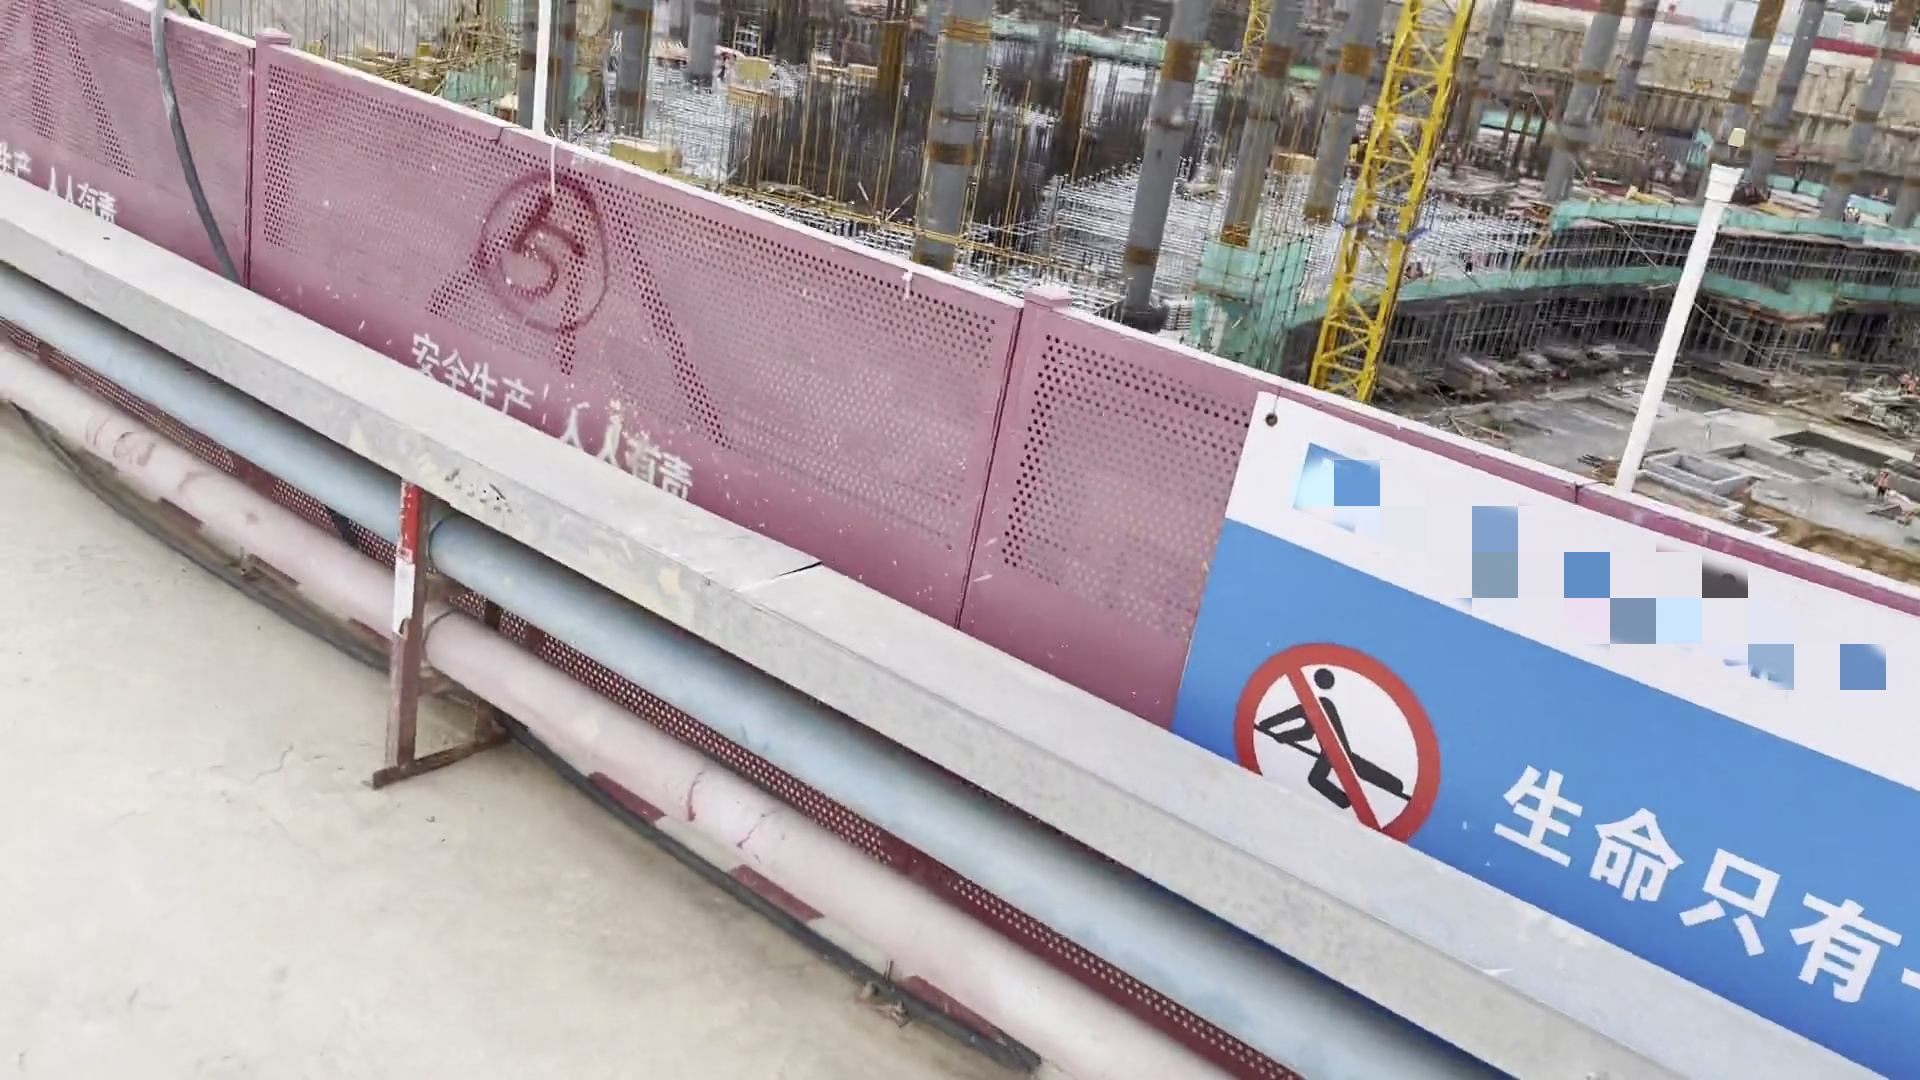brick: (1643, 452, 1753, 518), (1589, 392, 1642, 414)
fence: (1017, 293, 1912, 1080), (260, 50, 1035, 665), (1, 3, 281, 409)
scaffold: (1153, 291, 1197, 331)
slogan: (1164, 361, 1920, 1080)
wood: (604, 135, 684, 173), (728, 59, 775, 111), (491, 94, 520, 123)
